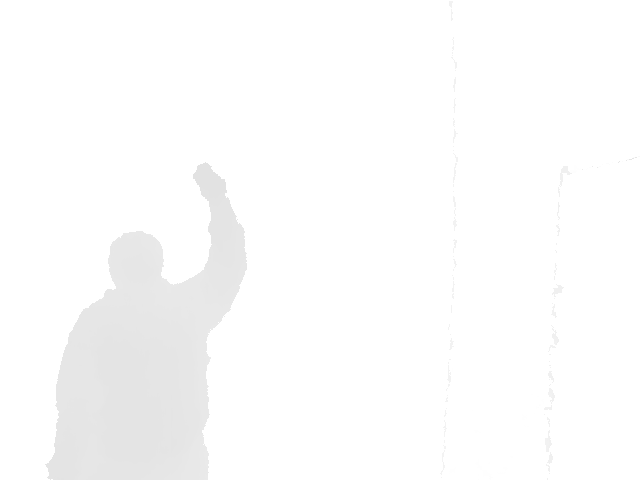hand: (192, 161, 233, 202)
head: (107, 231, 165, 295)
person: (44, 161, 249, 480)
